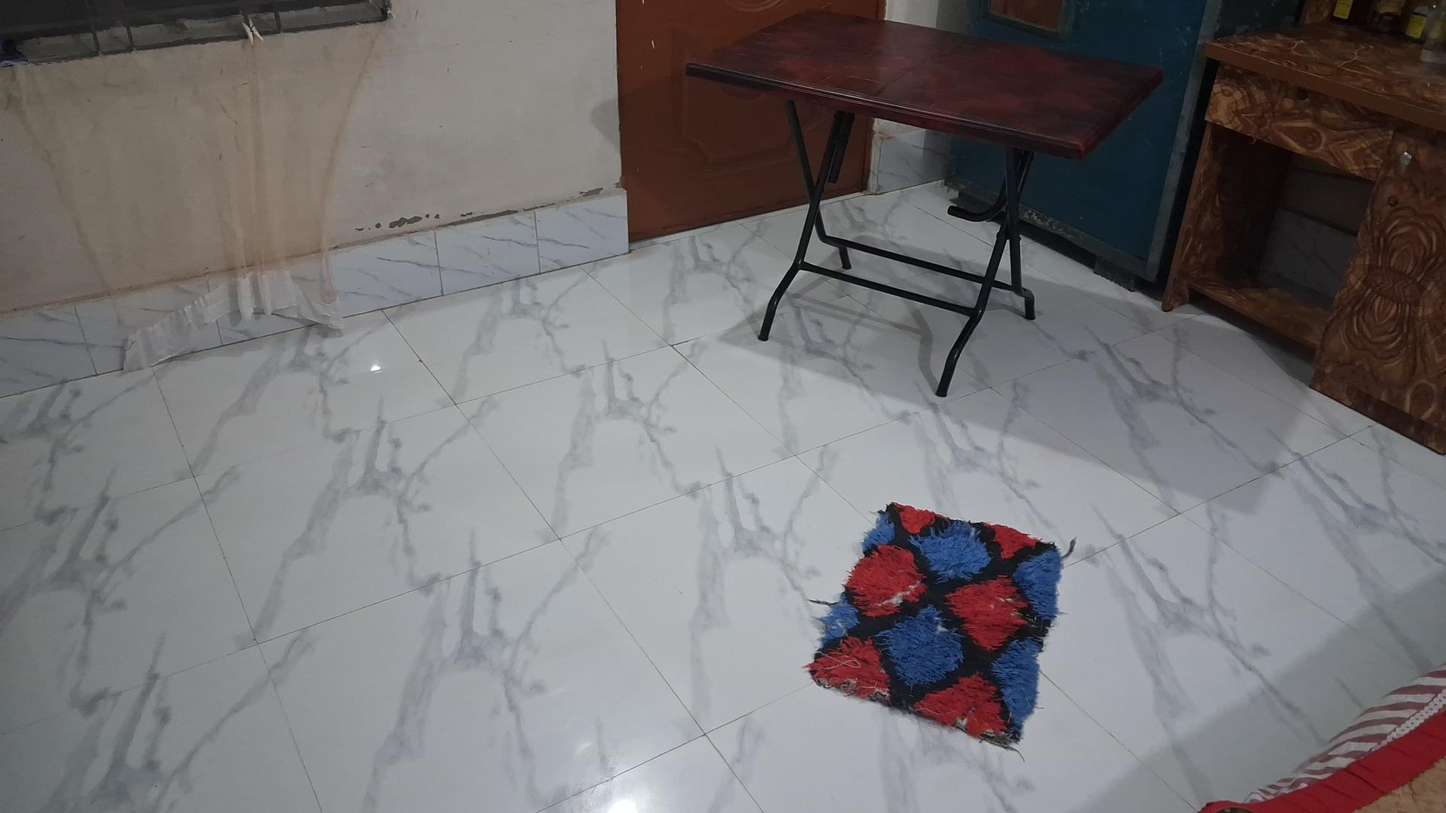Floor Mat: (789, 484, 1077, 765)
Table: (667, 5, 1158, 393)
